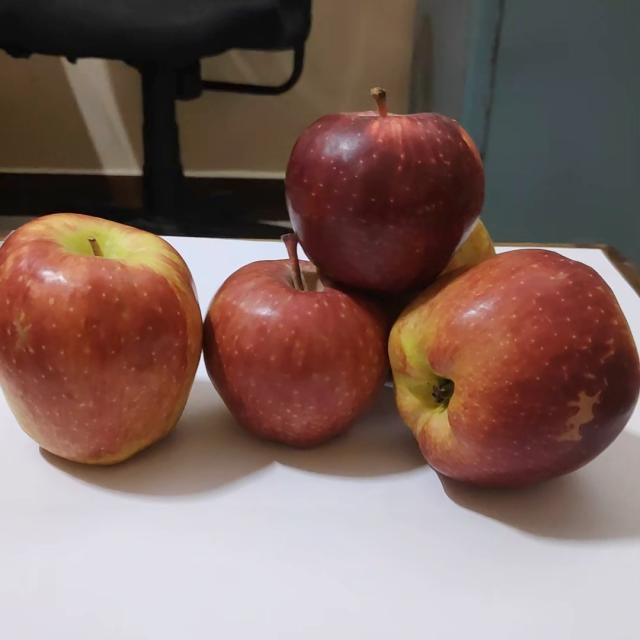apple: (389, 246, 640, 499), (1, 208, 210, 467), (288, 84, 498, 296), (206, 227, 400, 449), (437, 215, 508, 277)
